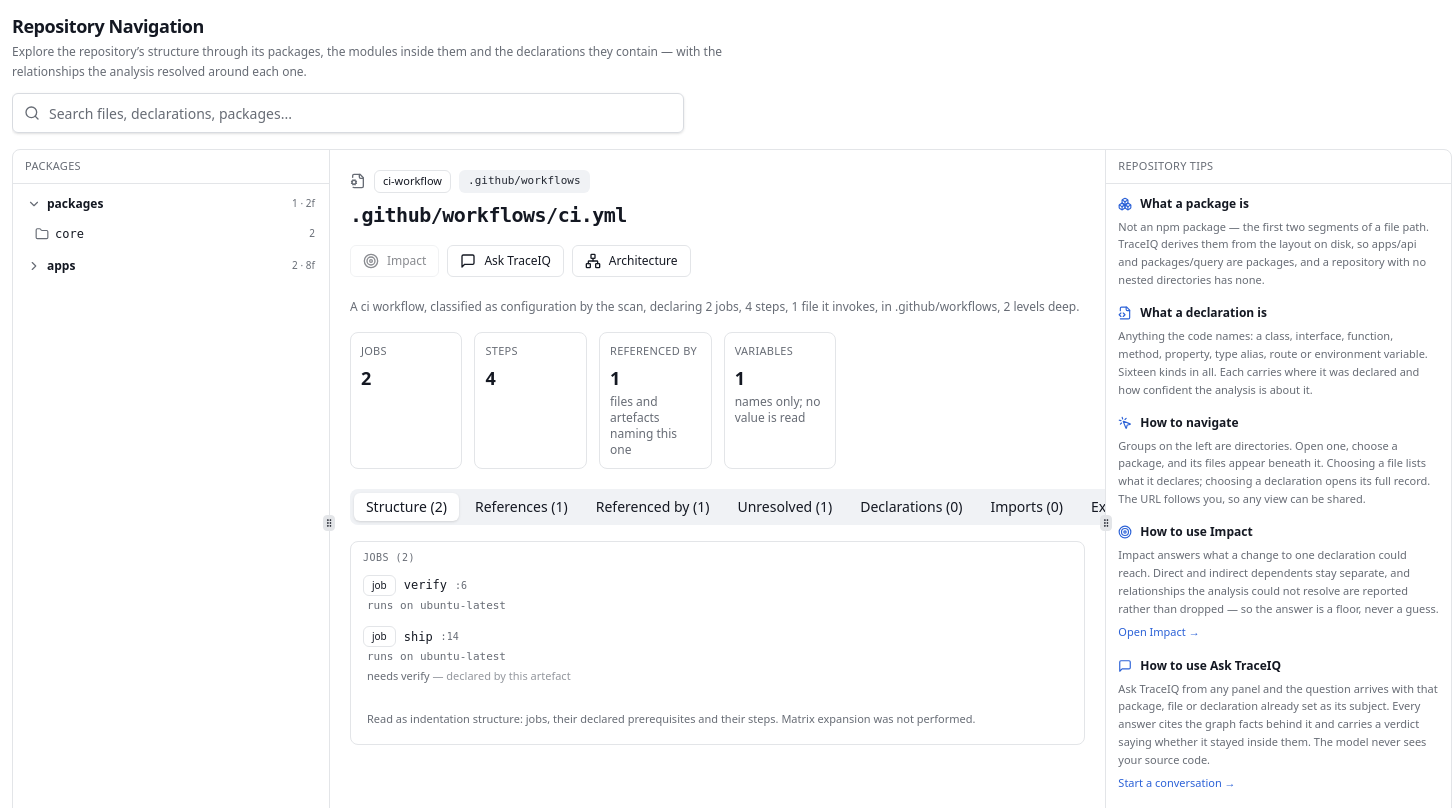
Test: Explorer › with an artefact selected › shows what it runs and what documents it, with the evidence for each
expect the heading ".github/workflows/ci.yml" is shown: met, box [350,202,627,226]
Step 1. Press the mouse on the tab "References (1)" → (521, 506), box [463,492,580,520]
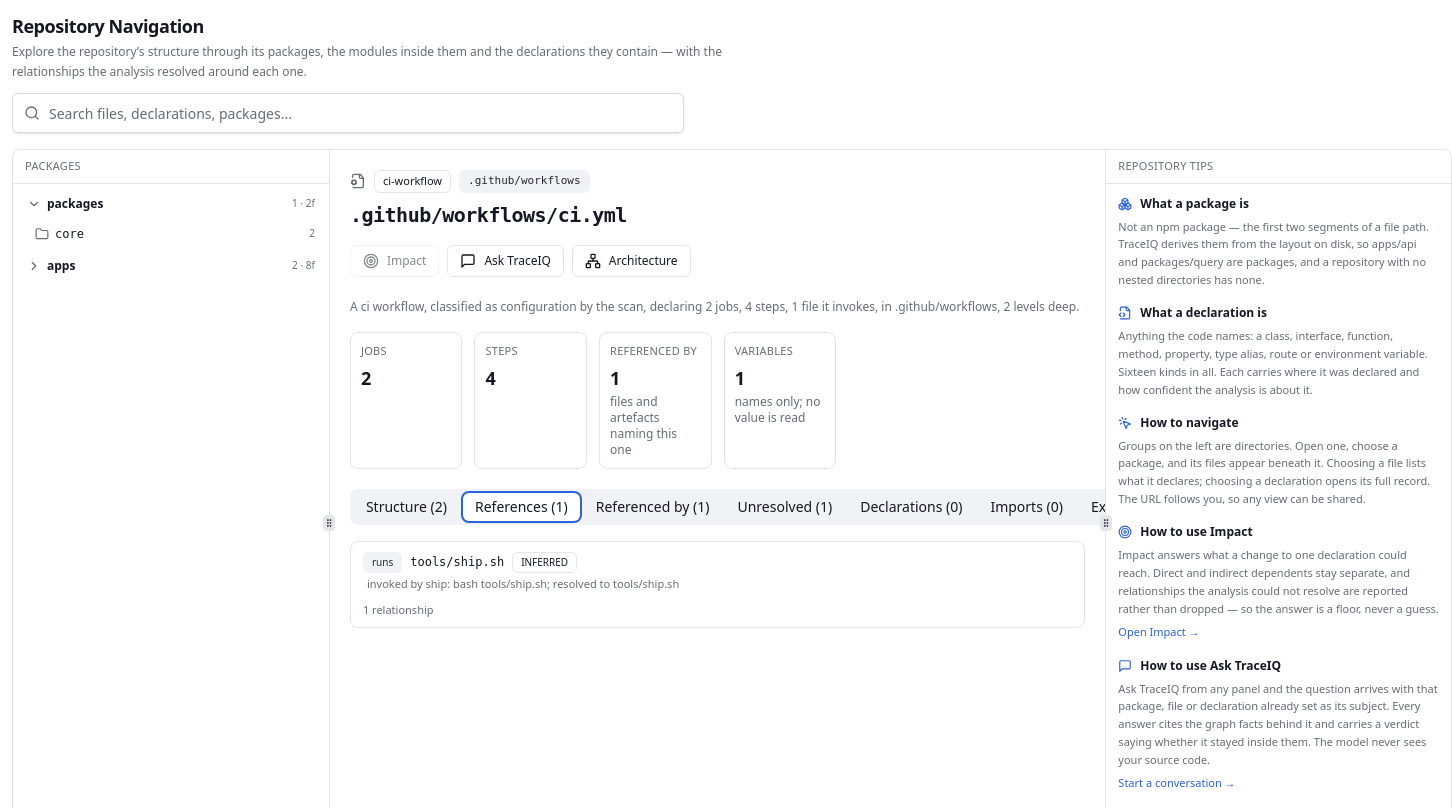
expect the text "runs" is shown: met, box [363,552,402,572]
expect the text "resolved to tools/ship.sh" is shown: met, box [367,576,679,590]
Step 2. Press the mouse on the tab "Referenced by (1)" → (653, 506), box [584,492,722,520]
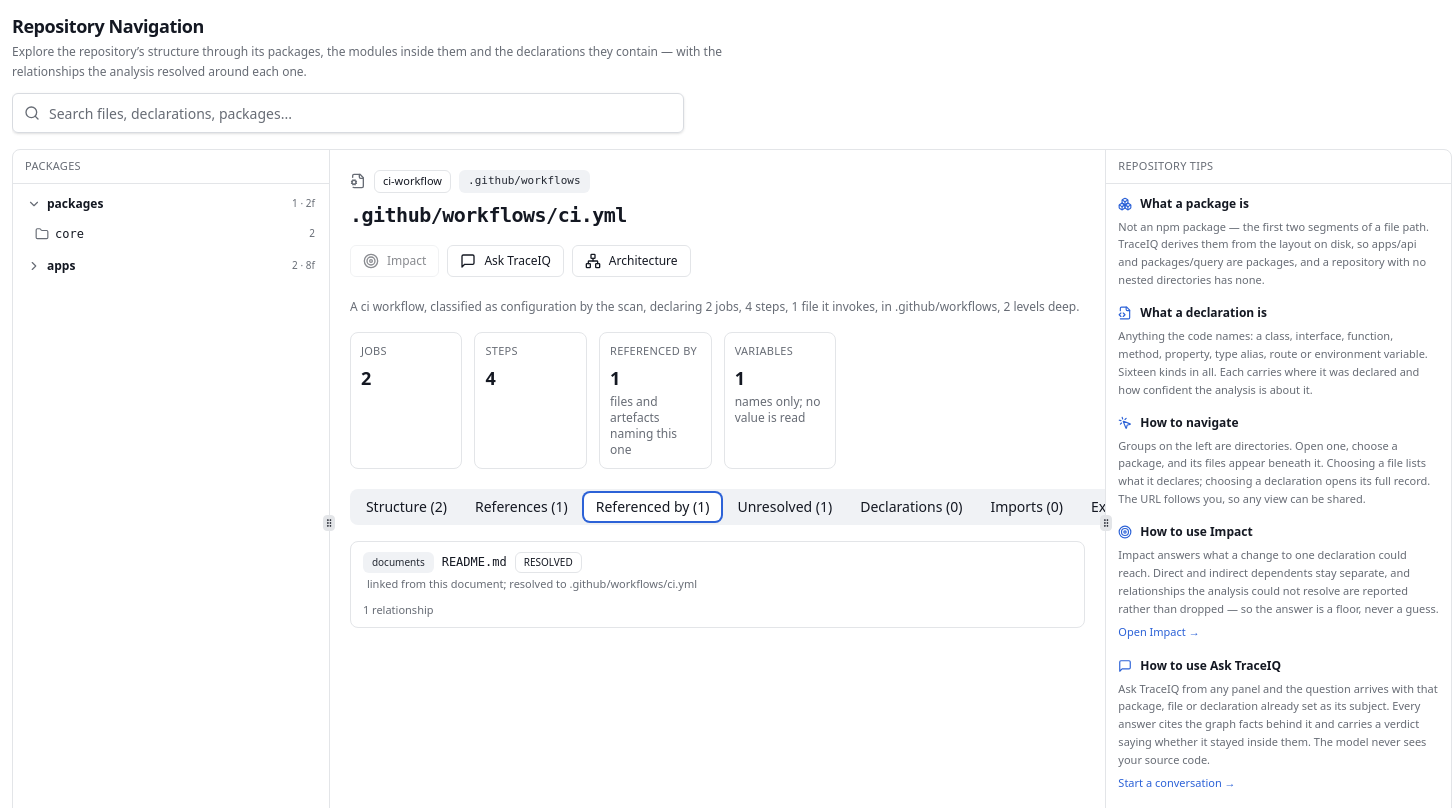
expect the text "documents" is shown: met, box [363,552,434,572]
